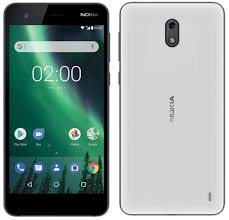nokia: (116, 1, 227, 219), (1, 1, 111, 215)
